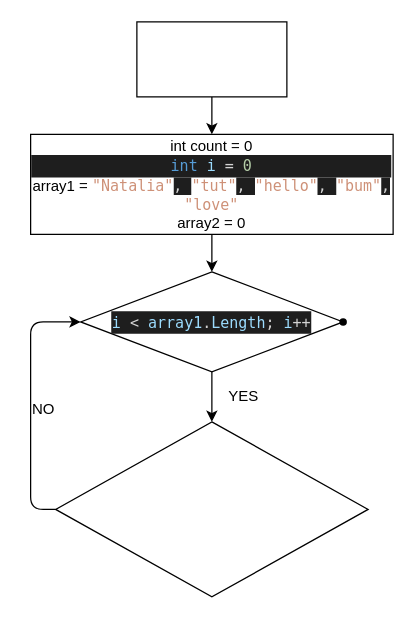
The diagram is 415 pixels wide and 619 high, and some of its shapes have lost their labels. The shapes that lost their labels are listed below. From the top down, each one's centre as x and y in pixels, then its label:
the point at 211,59: Start
the point at 211,509: if ( array1 [ i ]. Length <= 3 ) array2 [ count ] = array1 [ i ]; count ++;
